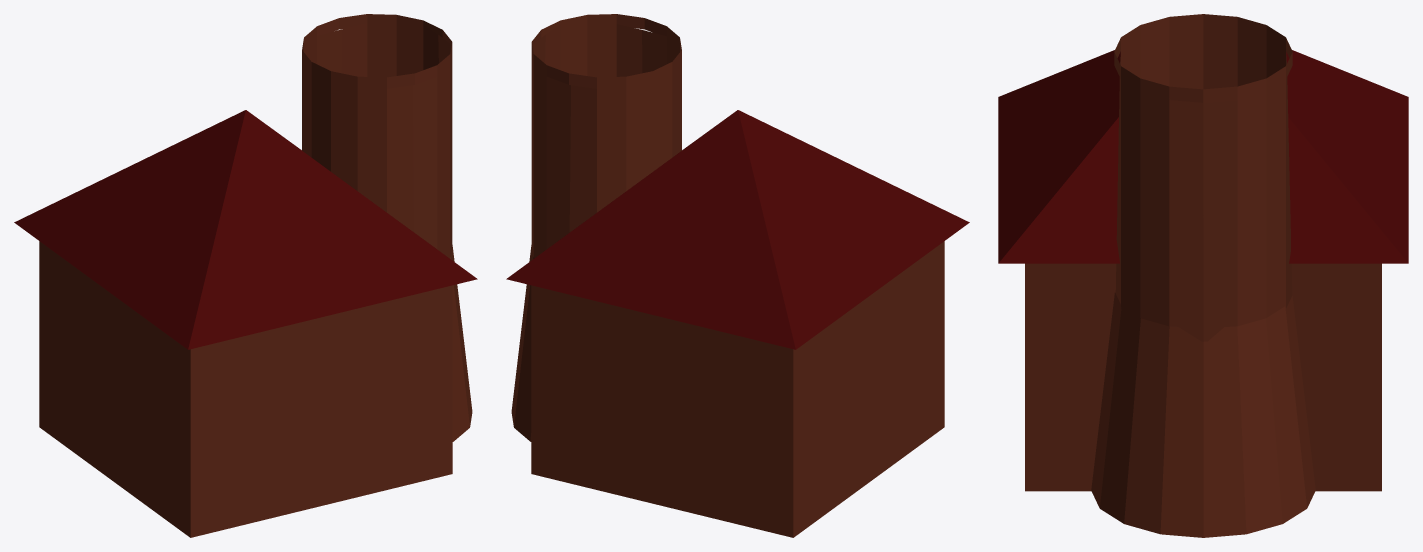
The model's file is smallchurch-2.obj.
The picture shows the model from 3 angles, left to right: view 1: azimuth 30°, elevation 25°; view 2: azimuth 150°, elevation 25°; view 3: azimuth 270°, elevation 25°; orthographic projection. The views are drawn at different scales.
Parts seen in each view (by area): view 1: house_wall.001, house_roof.001, tower_tubus_3.001, tower_tubus_2.001, base_tower.001, tower_tubus_1.001; view 2: house_wall.001, house_roof.001, tower_tubus_3.001, tower_tubus_2.001, base_tower.001, tower_tubus_1.001; view 3: house_roof.001, base_tower.001, house_wall.001, tower_tubus_3.001, tower_tubus_2.001, tower_tubus_1.001.
Part boxes in pixels (left/top/right/bottom): house_wall.001: left=39, top=241, right=452, bottom=537; house_roof.001: left=14, top=110, right=477, bottom=349; tower_tubus_3.001: left=302, top=14, right=452, bottom=257; tower_tubus_2.001: left=317, top=23, right=451, bottom=248; base_tower.001: left=449, top=245, right=472, bottom=441; tower_tubus_1.001: left=317, top=14, right=451, bottom=88; house_wall.001: left=531, top=241, right=944, bottom=537; house_roof.001: left=506, top=110, right=969, bottom=349; tower_tubus_3.001: left=531, top=14, right=681, bottom=257; tower_tubus_2.001: left=532, top=24, right=666, bottom=248; base_tower.001: left=511, top=245, right=534, bottom=441; tower_tubus_1.001: left=532, top=14, right=666, bottom=88; house_roof.001: left=998, top=50, right=1408, bottom=263; base_tower.001: left=1091, top=292, right=1315, bottom=537; house_wall.001: left=1025, top=263, right=1381, bottom=491; tower_tubus_3.001: left=1121, top=14, right=1285, bottom=325; tower_tubus_2.001: left=1115, top=52, right=1292, bottom=341; tower_tubus_1.001: left=1114, top=38, right=1292, bottom=102.
Bounding box in the file's own units: 8.75 × 8.67 × 7.34.
